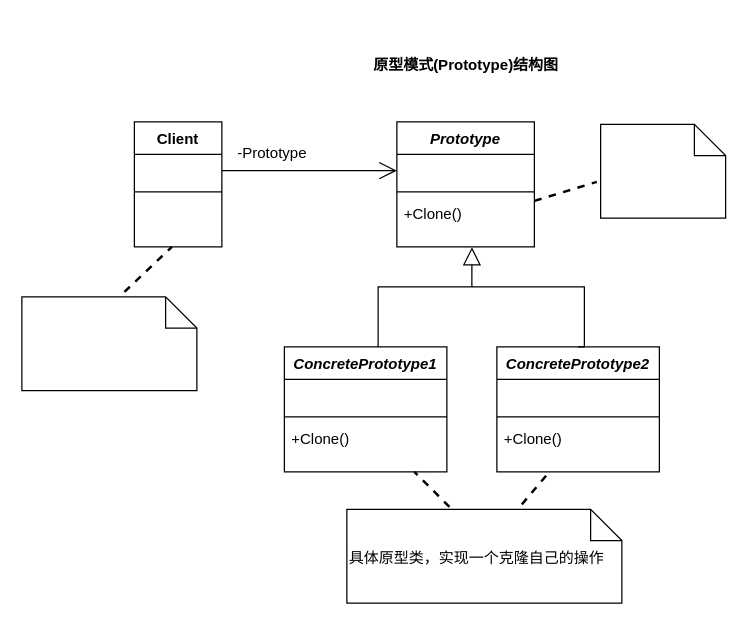
This 748x625 diagram has some shape labels left out. The centre of each missing label's shape, as x and y in pixels:
"原型类，声明一个克隆自身的接口" belongs at [662,170].
"让一个原型克隆自身 从而创建一个新的对象" belongs at [109,343].
